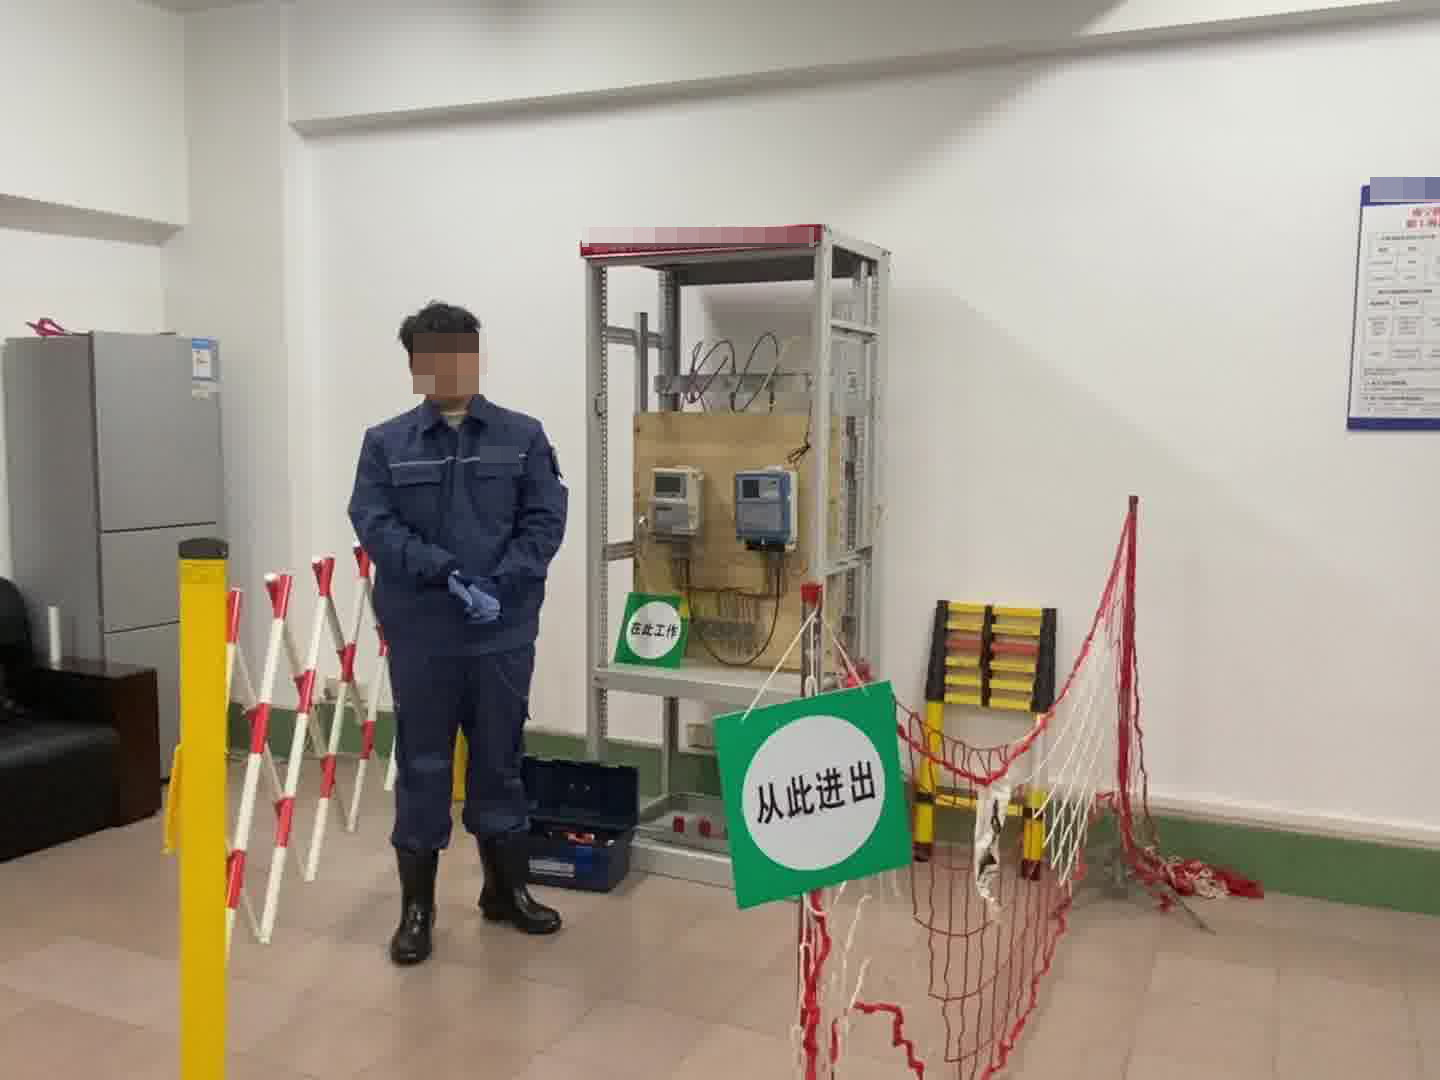downsuit: (382, 665, 543, 860)
glove: (432, 578, 511, 626)
halt: (397, 302, 489, 404)
intosign: (704, 677, 925, 917)
noear: (468, 343, 490, 380)
person: (347, 302, 570, 940)
shoe: (375, 840, 565, 971)
unhalt: (397, 302, 489, 404)
upsuit: (351, 403, 567, 641)
worksign: (611, 590, 690, 676)
